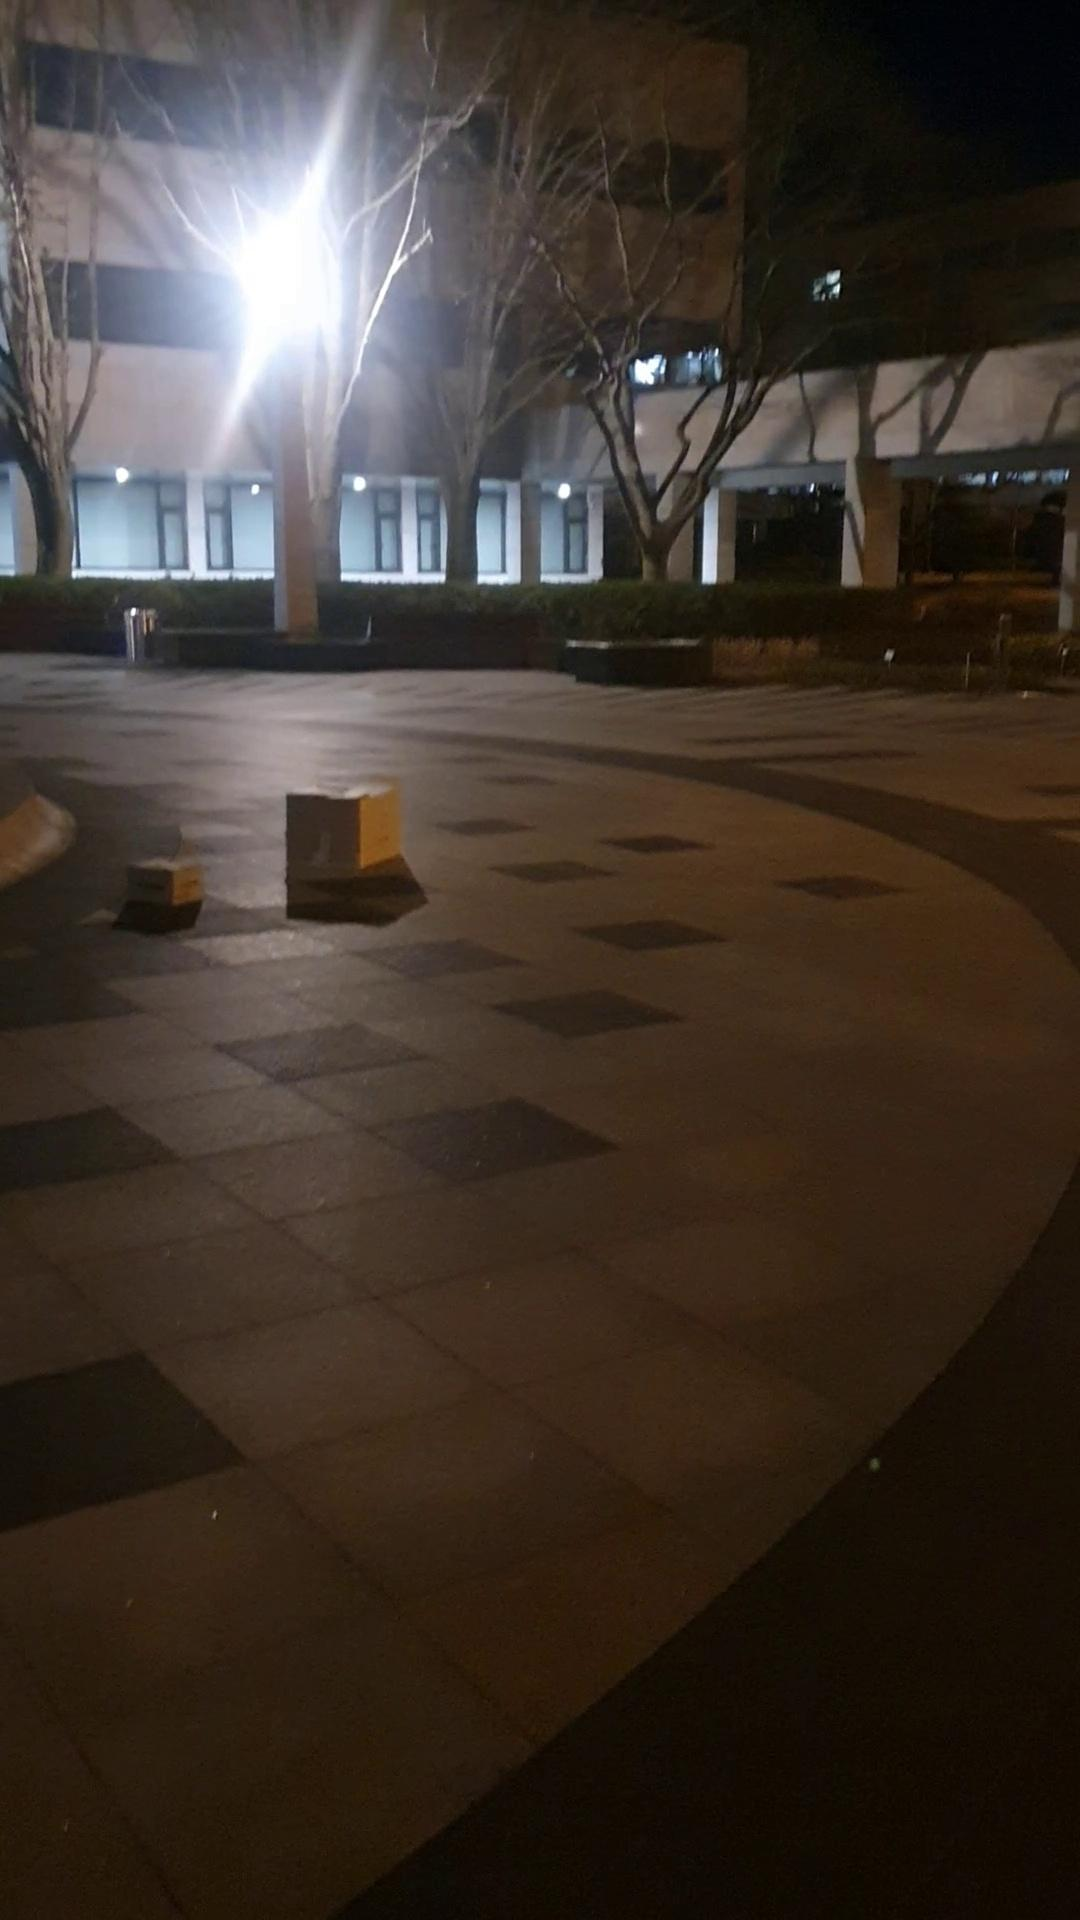Box: (273, 770, 400, 895), (108, 851, 222, 916)
